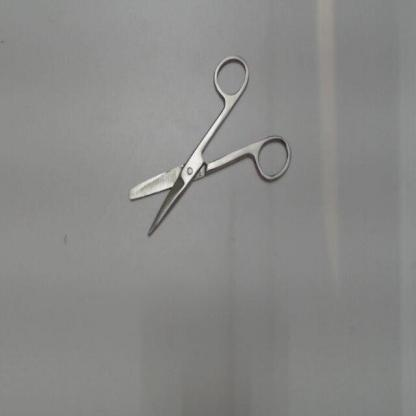Dressing Scissors: (111, 51, 296, 245)
